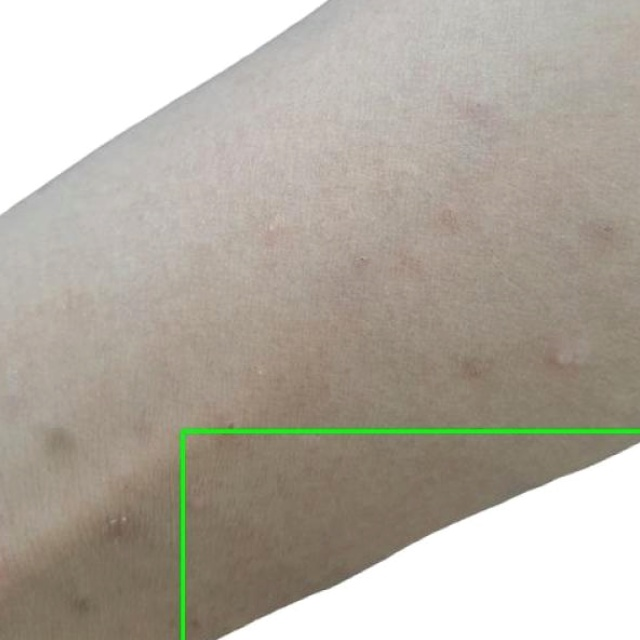Scabies: (183, 431, 639, 639)
